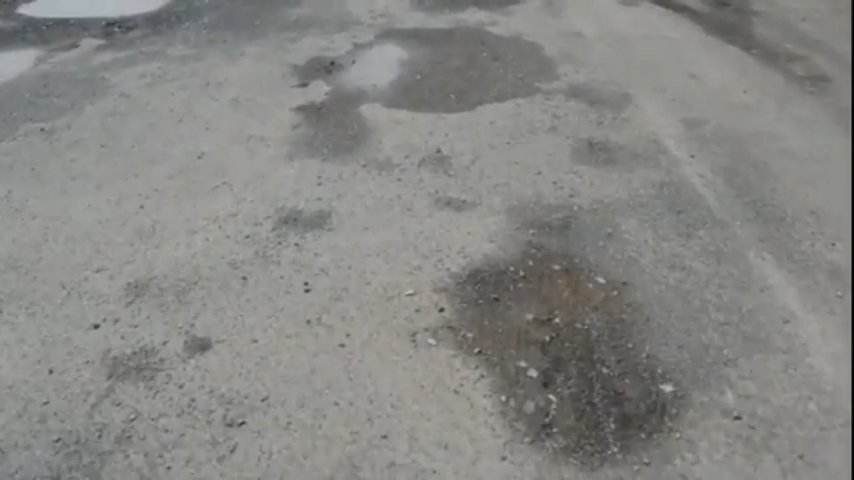pothole: (295, 189, 720, 480)
